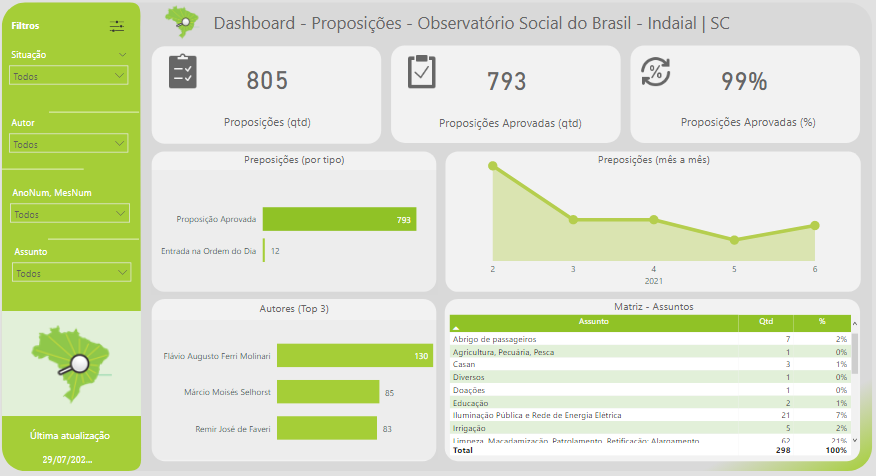

This screenshot's page, from the dashboard's own definition file:
{"tool":"powerbi","page":{"name":"Resumo3","canvas":[1280,720],"ordinal":7},"visuals":[{"type":"shape","box":[23.9,452.5,197,149.3],"z":0},{"type":"textbox","box":[318.4,20.6,788.9,47.7],"z":1000},{"type":"card","fields":{"Values":["_medidas.Proposições (QTDE)"]},"box":[242.3,85.1,315.8,73.5],"z":2000},{"type":"textbox","box":[242.3,167.6,315.8,36.1],"z":3000},{"type":"card","fields":{"Values":["_medidas.Proposições Aprovadas (QTDE)"]},"box":[576.2,86.4,324.8,72.2],"z":4000},{"type":"textbox","box":[587.8,168.9,313.2,34.8],"z":5000},{"type":"card","fields":{"Values":["_medidas.Proposições Aprovadas (%)"]},"box":[919.1,86.4,314.5,72.2],"z":6000},{"type":"textbox","box":[929.4,167.6,304.2,36.1],"z":7000},{"type":"clusteredBarChart","fields":{"Category":["fProposicoes.Situacao"],"Y":["_medidas.Proposições (QTDE)"]},"box":[234.6,252.6,406,176.6],"z":8000},{"type":"textbox","box":[234.6,220.4,406,33.5],"z":9000},{"type":"textbox","box":[653.5,221.7,589.1,30.9],"z":10000},{"type":"textbox","box":[653.5,429.2,589.1,30.9],"z":11000},{"type":"clusteredBarChart","fields":{"Category":["fProposicoes.Autor"],"Y":["_medidas.Proposições (QTDE)"]},"box":[234,464.5,407.2,198.2],"z":12000},{"type":"pivotTable","fields":{"Rows":["fProposicoes.Assunto"],"Values":["_medidas.Proposições (QTDE)","Divide(_medidas.Proposições (QTDE), ScopedEval(_medidas.Proposições (QTDE), [Role.Columns]))"]},"box":[653.5,452.4,589.1,210.1],"z":13000},{"type":"image","box":[250.1,82.5,60.6,60.6],"z":14000},{"type":"image","box":[587.8,82.5,60.6,60.6],"z":15000},{"type":"image","box":[920.4,82.5,60.6,60.6],"z":16000},{"type":"textbox","box":[234.6,431.8,406,33.5],"z":17000},{"type":"slicer","fields":{"Values":["fProposicoes.Autor"]},"box":[24.5,171.7,189.5,79.9],"z":18000},{"type":"slicer","fields":{"Values":["fProposicoes.Situacao"]},"box":[23.8,75.7,189,74.7],"z":19000},{"type":"textbox","box":[32.2,33.8,154.7,28.4],"z":20000},{"type":"image","box":[166.3,32.5,41.2,32.2],"z":21000},{"type":"slicer","fields":{"Values":["fProposicoes.Assunto"]},"box":[28.4,354.5,189.5,109.6],"z":22000},{"type":"image","box":[46.4,467.9,150.8,122.5],"z":23000},{"type":"textbox","box":[46.4,613.6,146.9,33.5],"z":24000},{"type":"multiRowCard","fields":{"Values":["_medidas.Ultima Atualização"]},"box":[76.1,648.7,87.7,37.4],"z":25000},{"type":"shape","box":[88.9,339,128.9,23.2],"z":26000},{"type":"shape","box":[24.5,240,116,23.2],"z":27000},{"type":"shape","box":[90.2,158.5,127.6,23.2],"z":28000},{"type":"image","box":[247.5,14.2,63.2,58],"z":29000},{"type":"card","fields":{"Values":["_Medidas Jovi.Rodape"]},"box":[0,686.9,1280,32.6],"z":30000},{"type":"stackedAreaChart","fields":{"Y":["_medidas.Proposições (QTDE)"],"Category":["dCalendario.AnoNum","dCalendario.MesNum"]},"box":[668.5,225.2,558.5,206.9],"z":31000},{"type":"slicer","fields":{"Values":["dCalendario.AnoNum","dCalendario.MesNum"]},"box":[25.5,270.1,189.6,80.5],"z":32000}]}

Visuals, with their boxes on the page's 1280x720 design canvas (x1, y1, x2, y2). These are canvas units, not pixel positions in the 876x476 screenshot, which may show the page scaled, cropped or inside an application window:
shape: box=[24, 452, 221, 602]
textbox: box=[318, 21, 1107, 68]
card - _medidas.Proposições (QTDE): box=[242, 85, 558, 159]
textbox: box=[242, 168, 558, 204]
card - _medidas.Proposições Aprovadas (QTDE): box=[576, 86, 901, 159]
textbox: box=[588, 169, 901, 204]
card - _medidas.Proposições Aprovadas (%): box=[919, 86, 1234, 159]
textbox: box=[929, 168, 1234, 204]
clusteredBarChart - fProposicoes.Situacao x _medidas.Proposições (QTDE): box=[235, 253, 641, 429]
textbox: box=[235, 220, 641, 254]
textbox: box=[654, 222, 1243, 253]
textbox: box=[654, 429, 1243, 460]
clusteredBarChart - fProposicoes.Autor x _medidas.Proposições (QTDE): box=[234, 464, 641, 663]
pivotTable - fProposicoes.Assunto x _medidas.Proposições (QTDE): box=[654, 452, 1243, 662]
image: box=[250, 82, 311, 143]
image: box=[588, 82, 648, 143]
image: box=[920, 82, 981, 143]
textbox: box=[235, 432, 641, 465]
slicer - fProposicoes.Autor: box=[24, 172, 214, 252]
slicer - fProposicoes.Situacao: box=[24, 76, 213, 150]
textbox: box=[32, 34, 187, 62]
image: box=[166, 32, 208, 65]
slicer - fProposicoes.Assunto: box=[28, 354, 218, 464]
image: box=[46, 468, 197, 590]
textbox: box=[46, 614, 193, 647]
multiRowCard - _medidas.Ultima Atualização: box=[76, 649, 164, 686]
shape: box=[89, 339, 218, 362]
shape: box=[24, 240, 140, 263]
shape: box=[90, 158, 218, 182]
image: box=[248, 14, 311, 72]
card - _Medidas Jovi.Rodape: box=[0, 687, 1280, 720]
stackedAreaChart - _medidas.Proposições (QTDE) x dCalendario.AnoNum: box=[668, 225, 1227, 432]
slicer - dCalendario.AnoNum x dCalendario.MesNum: box=[26, 270, 215, 351]
